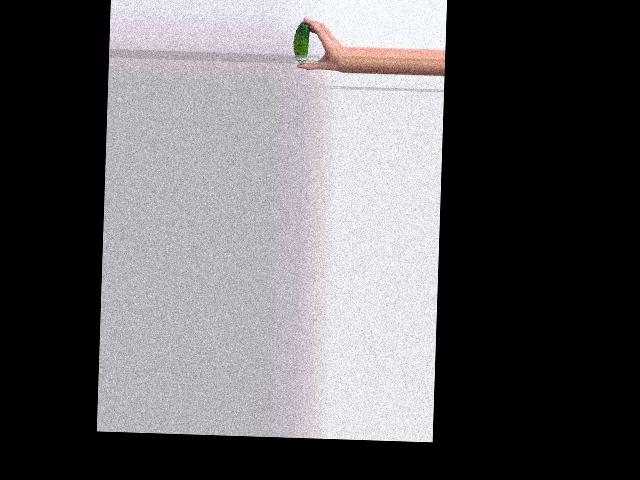cucumber: (292, 21, 309, 64)
